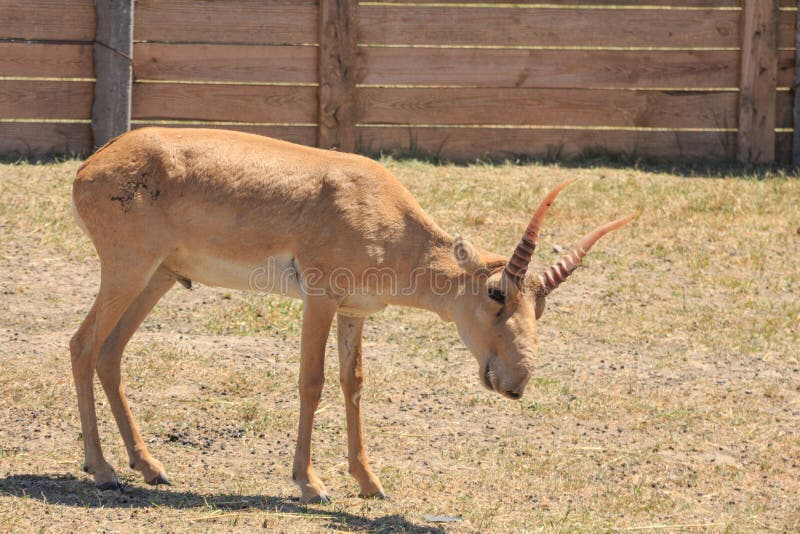saiga: (65, 129, 642, 534)
